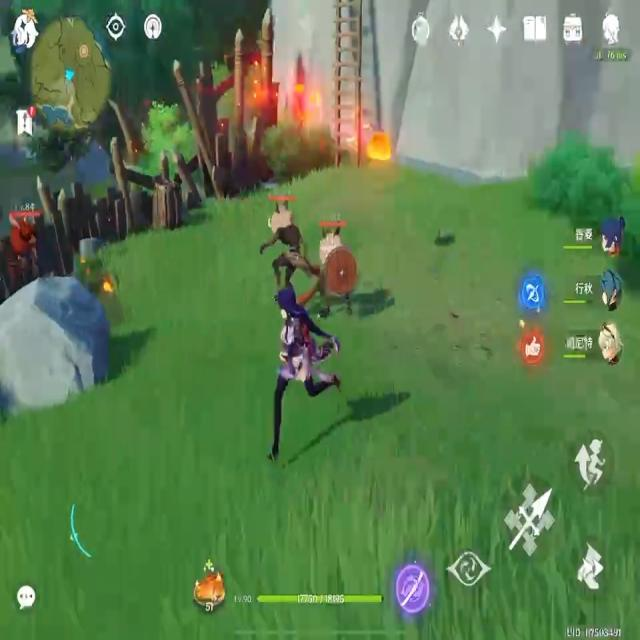genshin-hilichurls: (253, 181, 309, 295), (316, 210, 364, 312), (5, 198, 39, 288)
